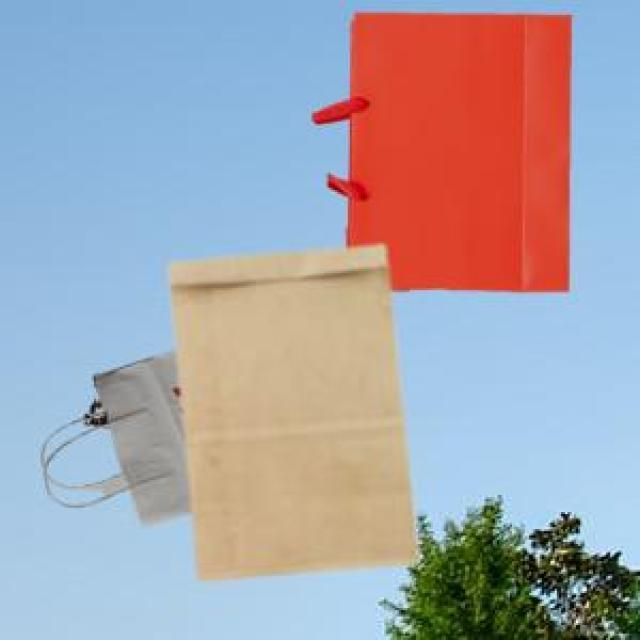paper: (166, 241, 414, 576), (309, 9, 568, 288), (79, 346, 188, 523)
